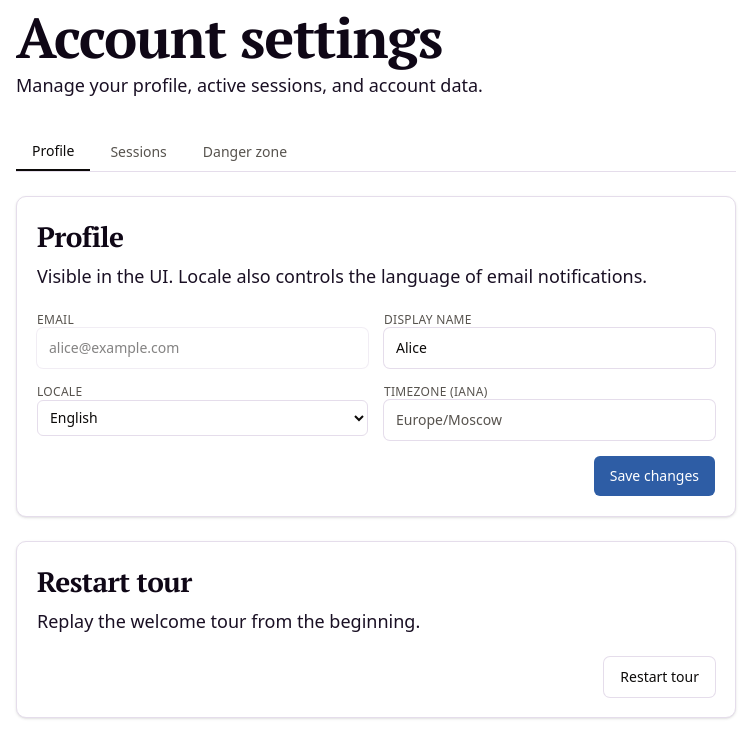
Scenario: danger zone — data export › hides export button when a pending export already exists
Click the tab with test id "tab-danger" at [245, 152], box [187, 133, 303, 171]
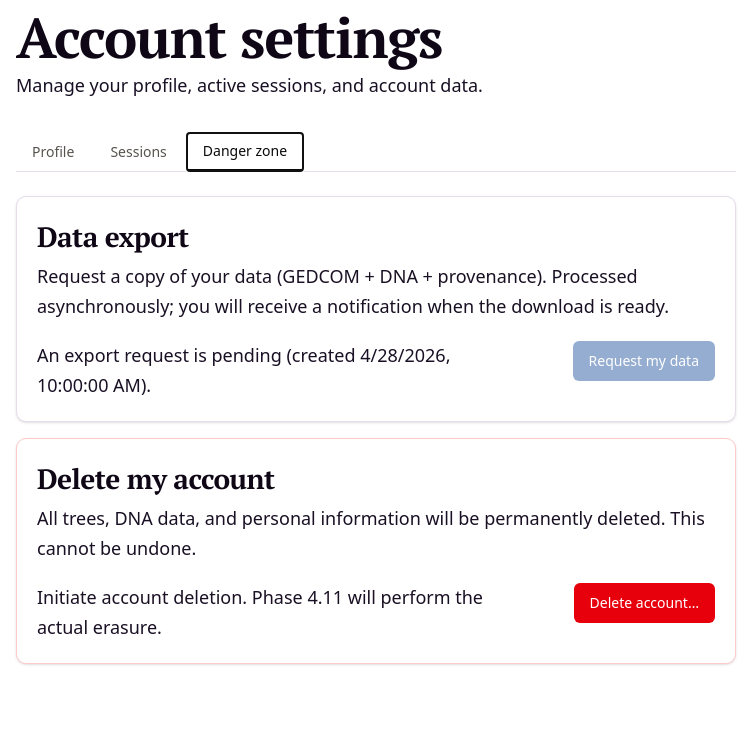
expect the button with test id "export-request" is disabled: met, box [573, 341, 715, 381]
